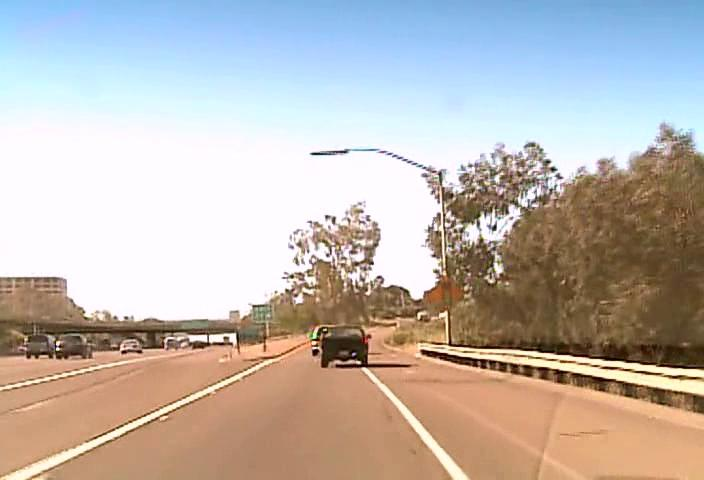signalAhead: (425, 275, 465, 311)
